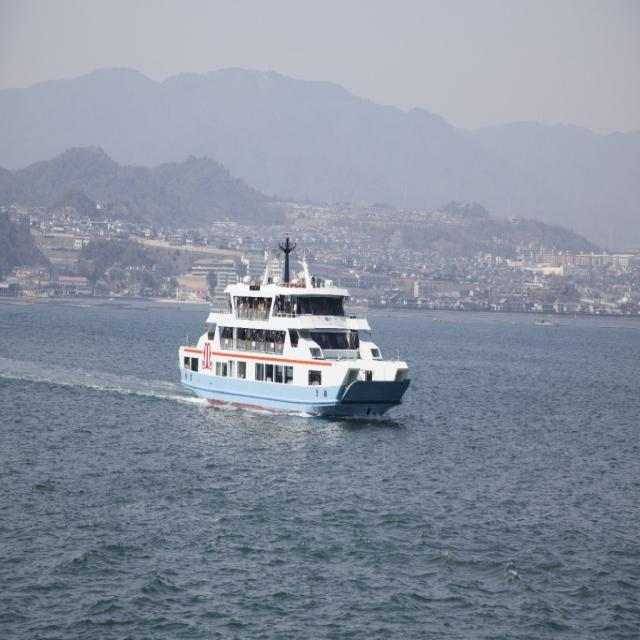passenger ship: (157, 193, 408, 421)
